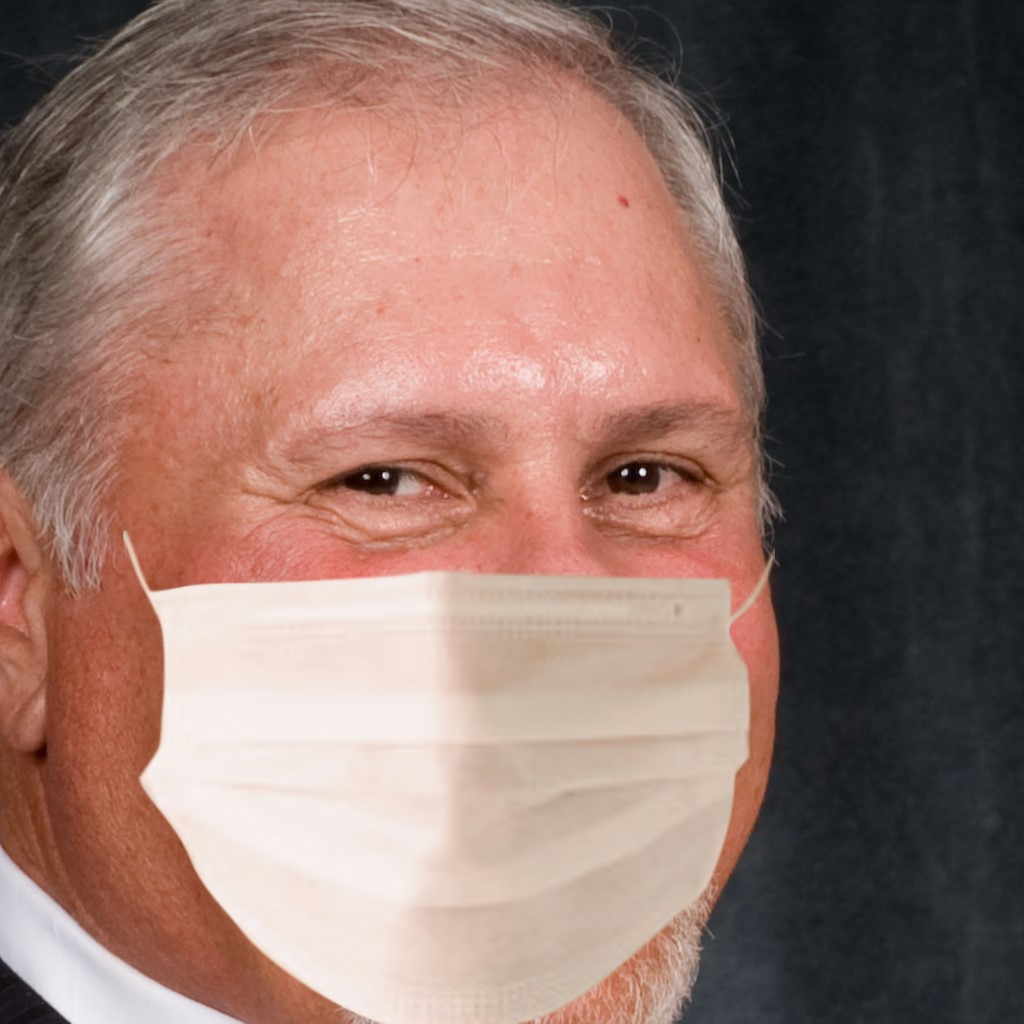con_mascara: (60, 34, 785, 1003)
